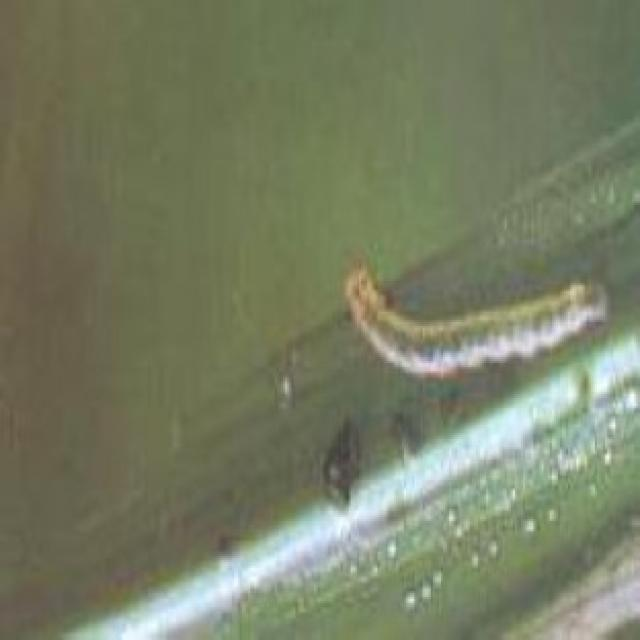rice leaf roller: (345, 265, 605, 375), (322, 418, 359, 503)
